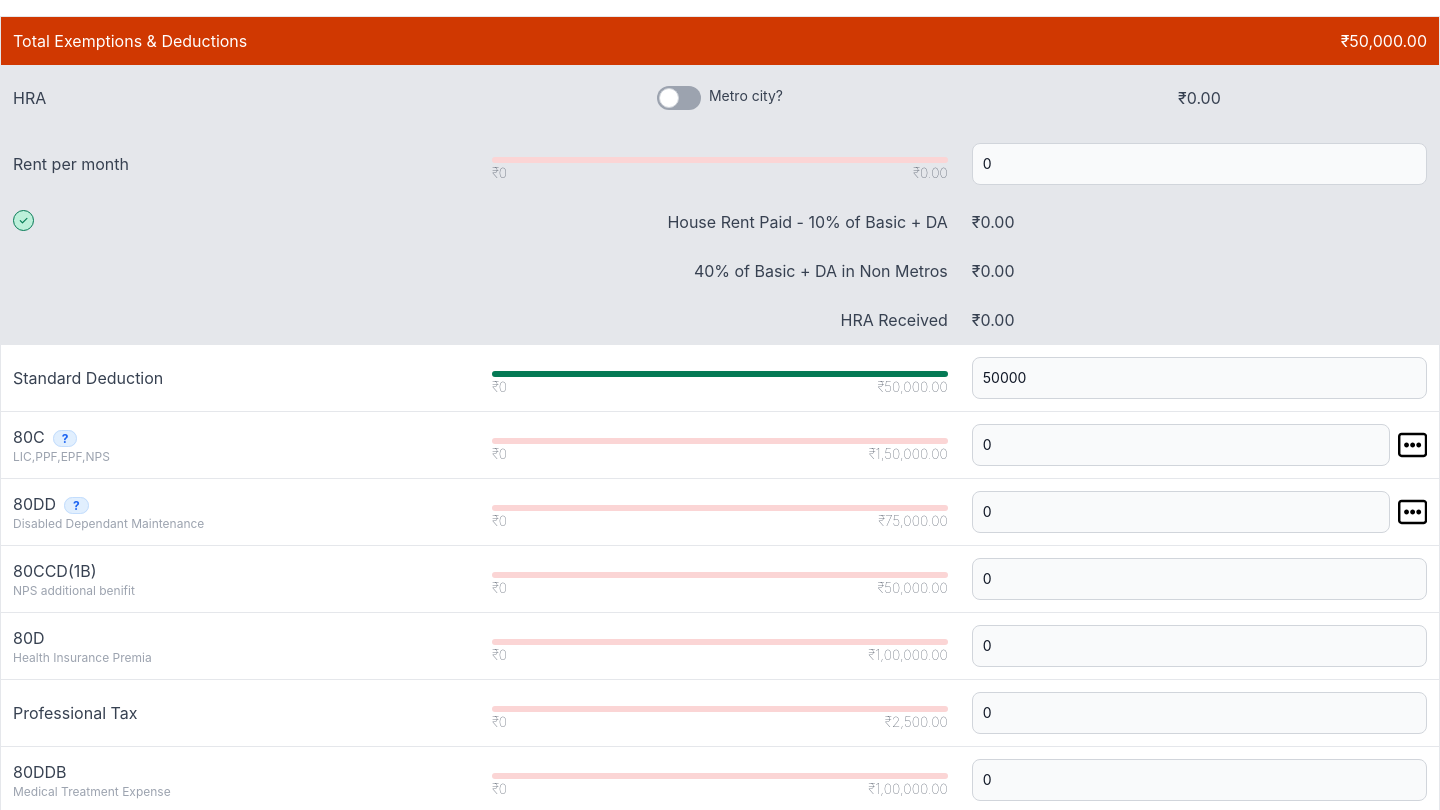
Test: <ExemptionsTab /> › hra calculation
Type "15000" into the field with test id "input-Rent Paid". click: (1199, 164)
box: [972, 143, 1427, 185]
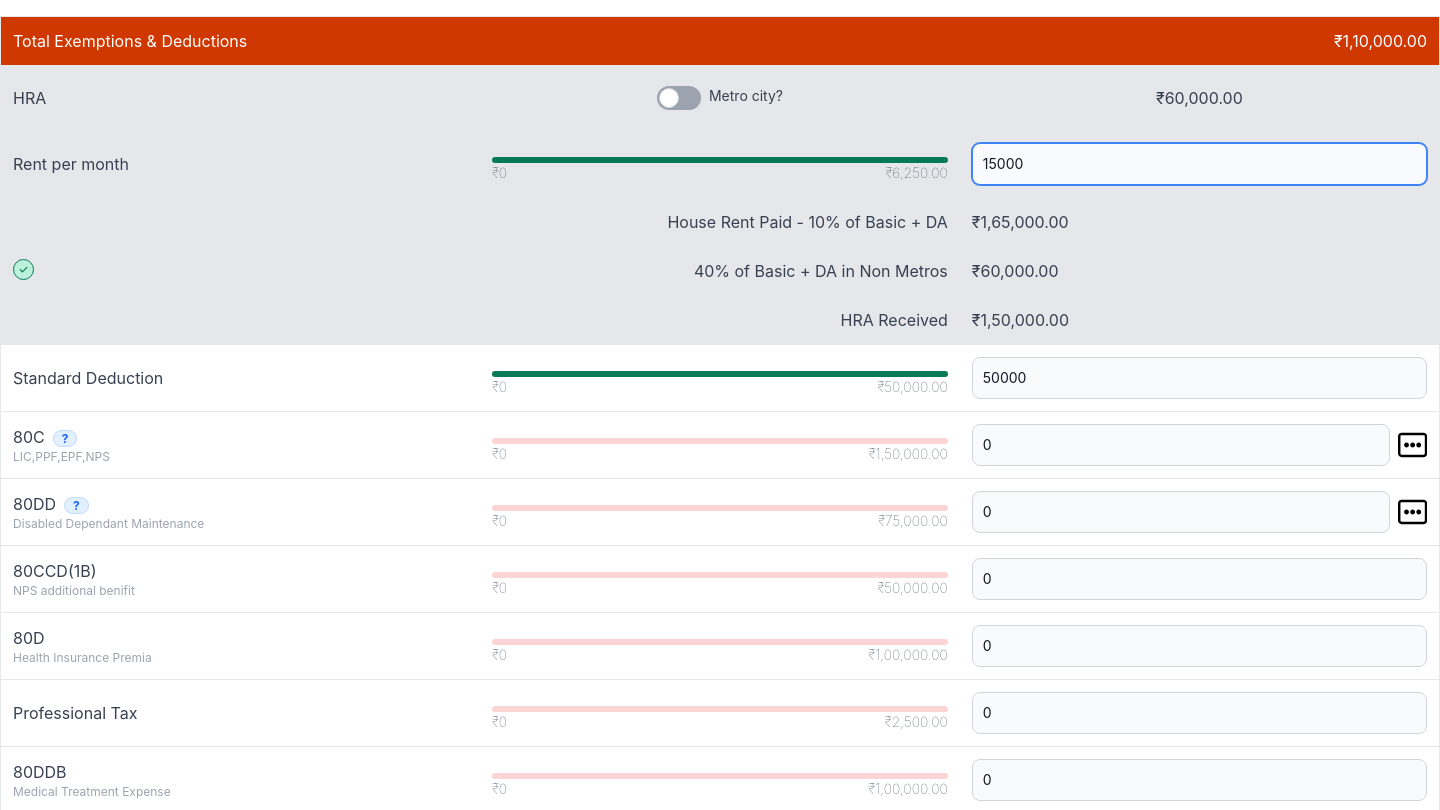
Check: the cell with test id "House Rent Paid - 10% of Basic + DA" reads "₹1,65,000.00", box [972, 212, 1069, 232]
Check: the cell with test id "Basic + DA in city" reads "₹60,000.00", box [972, 261, 1059, 281]
Check: the cell with test id "HRA Received" reads "₹1,50,000.00", box [972, 310, 1069, 330]
